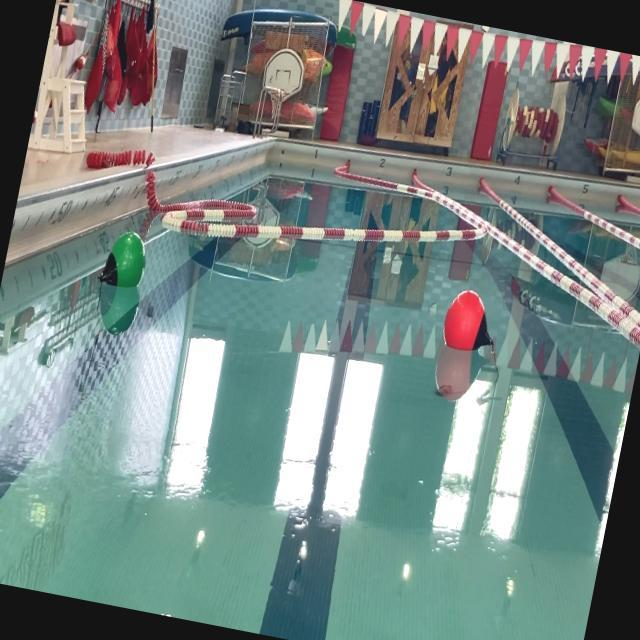buoy: (440, 285, 507, 361), (100, 226, 154, 296)
